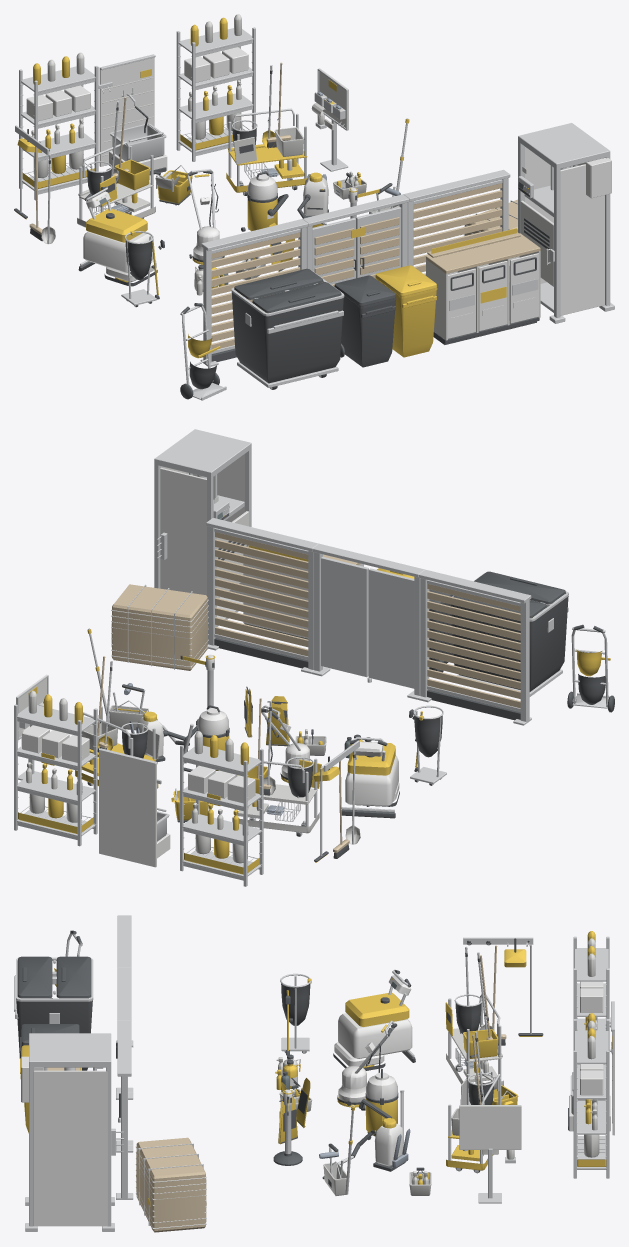
Rendered from laundrette-and-cleaning-janitorial-store-dc237af2__25659.glb.
3 views of the same model, one above another, from view 1: azimuth 30°, elevation 25°; view 2: azimuth 150°, elevation 25°; view 3: azimuth 270°, elevation 25° (orthographic). The views are drawn at different scales.
Visible parts, largest first — view 1: 027-cardboard-baler/1, 023-wheeled-bin-1100/1, 026-recycling-bank-3-stream/1, 027-cardboard-baler/0, 002-chemical-shelving-bunded/0, 001-chemical-shelving-bunded/0, 020-bin-store-enclosure/1, 022-bin-store-enclosure/1, 000-mop-sink-splashback/0, 024-wheeled-bin-240/0, 020-bin-store-enclosure/0, 025-wheeled-bin-240-recycling/0 (+43 smaller); view 2: 020-bin-store-enclosure/1, 022-bin-store-enclosure/1, 028-cardboard-bale/0, 027-cardboard-baler/1, 000-mop-sink-splashback/0, 027-cardboard-baler/0, 002-chemical-shelving-bunded/0, 001-chemical-shelving-bunded/0, 021-bin-store-gate/gate-right/metal, 021-bin-store-gate/gate-left/metal, 020-bin-store-enclosure/0, 023-wheeled-bin-1100/1 (+29 smaller); view 3: 027-cardboard-baler/1, 028-cardboard-bale/0, 027-cardboard-baler/0, 002-chemical-shelving-bunded/0, 008-floor-scrubber-walk-behind/0, 004-ppe-dispenser-wall/0, 001-chemical-shelving-bunded/0, 022-bin-store-enclosure/0, 023-wheeled-bin-1100/1, 008-floor-scrubber-walk-behind/1, 023-wheeled-bin-1100/lid-front, 023-wheeled-bin-1100/lid-back (+29 smaller).
Part boxes in pixels (left/top/right/bottom): 027-cardboard-baler/1: left=522, top=146, right=611, bottom=315; 023-wheeled-bin-1100/1: left=231, top=292, right=343, bottom=389; 026-recycling-bank-3-stream/1: left=426, top=251, right=540, bottom=340; 027-cardboard-baler/0: left=518, top=123, right=614, bottom=323; 002-chemical-shelving-bunded/0: left=176, top=27, right=255, bottom=161; 001-chemical-shelving-bunded/0: left=19, top=66, right=98, bottom=200; 020-bin-store-enclosure/1: left=211, top=232, right=300, bottom=349; 022-bin-store-enclosure/1: left=413, top=183, right=502, bottom=275; 000-mop-sink-splashback/0: left=99, top=57, right=167, bottom=170; 024-wheeled-bin-240/0: left=340, top=294, right=396, bottom=367; 020-bin-store-enclosure/0: left=200, top=219, right=308, bottom=366; 025-wheeled-bin-240-recycling/0: left=375, top=277, right=437, bottom=357; 020-bin-store-enclosure/1: left=427, top=584, right=520, bottom=708; 022-bin-store-enclosure/1: left=215, top=532, right=308, bottom=656; 028-cardboard-bale/0: left=111, top=584, right=208, bottom=670; 027-cardboard-baler/1: left=160, top=454, right=244, bottom=601; 000-mop-sink-splashback/0: left=99, top=749, right=170, bottom=867; 027-cardboard-baler/0: left=154, top=429, right=251, bottom=626; 002-chemical-shelving-bunded/0: left=14, top=704, right=97, bottom=846; 001-chemical-shelving-bunded/0: left=180, top=745, right=263, bottom=886; 021-bin-store-gate/gate-right/metal: left=321, top=557, right=368, bottom=677; 021-bin-store-gate/gate-left/metal: left=368, top=568, right=414, bottom=688; 020-bin-store-enclosure/0: left=417, top=569, right=531, bottom=725; 023-wheeled-bin-1100/1: left=450, top=596, right=568, bottom=691; 027-cardboard-baler/1: left=21, top=1056, right=107, bottom=1226; 028-cardboard-bale/0: left=136, top=1137, right=206, bottom=1232; 027-cardboard-baler/0: left=25, top=1033, right=123, bottom=1231; 002-chemical-shelving-bunded/0: left=573, top=1019, right=609, bottom=1178; 008-floor-scrubber-walk-behind/0: left=334, top=975, right=412, bottom=1066; 004-ppe-dispenser-wall/0: left=459, top=1105, right=521, bottom=1149; 001-chemical-shelving-bunded/0: left=573, top=936, right=609, bottom=1065; 022-bin-store-enclosure/0: left=116, top=1020, right=133, bottom=1199; 023-wheeled-bin-1100/1: left=16, top=1000, right=92, bottom=1070; 008-floor-scrubber-walk-behind/1: left=345, top=978, right=409, bottom=1067; 023-wheeled-bin-1100/lid-front: left=17, top=956, right=52, bottom=998; 023-wheeled-bin-1100/lid-back: left=56, top=956, right=91, bottom=998.
Size of the model in its own units: 6.64 by 2.4 by 7.72.
